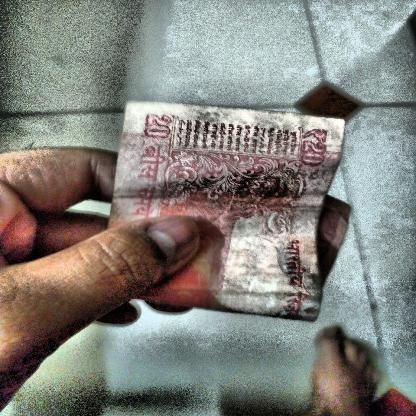Rs20: (296, 122, 334, 171), (141, 110, 177, 144)
